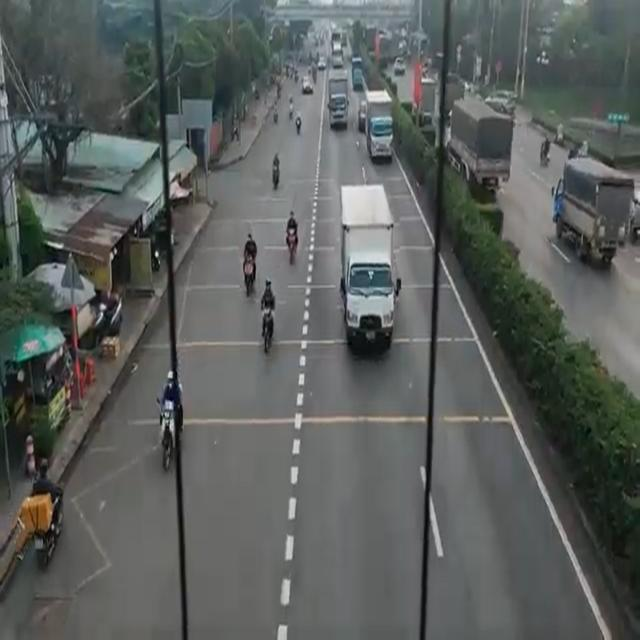motor: (162, 398, 174, 462), (260, 309, 274, 357), (242, 255, 255, 294), (287, 234, 296, 264)
truck: (342, 182, 396, 354), (563, 161, 629, 249), (453, 101, 508, 194), (367, 92, 392, 162), (331, 72, 348, 134)
